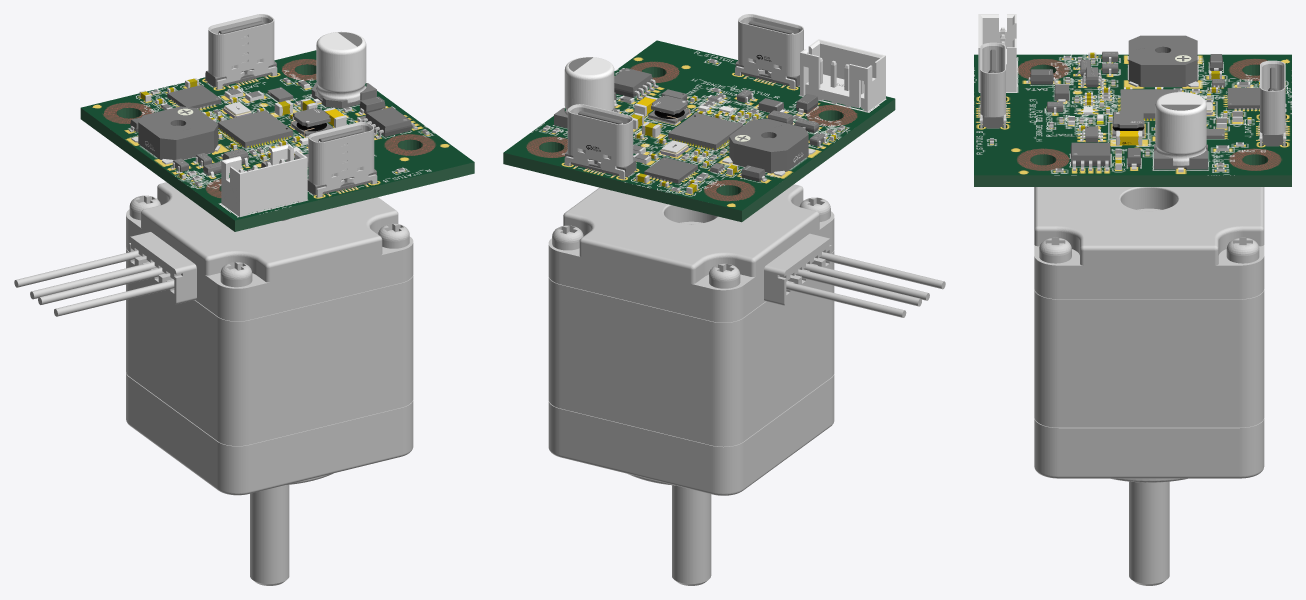
The model's file is development-assembly.glb.
3 views of the same model, side by side, from view 1: azimuth 30°, elevation 25°; view 2: azimuth 150°, elevation 25°; view 3: azimuth 270°, elevation 25° (orthographic). The views are drawn at different scales.
Visible parts, largest first — view 1: OEM_11HS12_0674S, Box0, J_MOTOR, J_DATA, J_PD, C_BULK, BZ1, U_MCU, U_PD, U_DRV, L_BUCK; view 2: OEM_11HS12_0674S, Box0, J_MOTOR, J_DATA, J_PD, BZ1, C_BULK, U_MCU, U_PD, L_BUCK, U_DRV; view 3: OEM_11HS12_0674S, Box0, C_BULK, BZ1, J_DATA, J_PD, J_MOTOR, U_PD, U_MCU, U_DRV, L_BUCK, D_DATA.
Boxes of the visible parts, x1,y1,x2,y2 form: OEM_11HS12_0674S: (14,182,413,585); Box0: (80,50,474,231); J_MOTOR: (221,144,307,216); J_DATA: (205,14,277,89); J_PD: (307,122,377,197); C_BULK: (311,31,376,108); BZ1: (131,106,220,164); U_MCU: (217,110,292,148); U_PD: (362,107,417,138); U_DRV: (167,85,221,108); L_BUCK: (290,107,332,137); OEM_11HS12_0674S: (548,184,945,585); Box0: (503,40,895,222); J_MOTOR: (800,39,885,111); J_DATA: (564,104,636,179); J_PD: (735,14,803,89); BZ1: (722,118,815,176); C_BULK: (554,57,617,128); U_MCU: (668,113,743,150); U_PD: (614,68,658,99); L_BUCK: (648,95,690,125); U_DRV: (644,157,697,183); OEM_11HS12_0674S: (1034,187,1264,585); Box0: (974,54,1291,186); C_BULK: (1154,92,1207,172); BZ1: (1127,35,1198,87); J_DATA: (1257,60,1287,146); J_PD: (978,42,1008,128); J_MOTOR: (978,14,1016,92); U_PD: (1070,142,1110,170); U_MCU: (1120,89,1177,119); U_DRV: (1227,88,1259,109); L_BUCK: (1112,111,1144,137); D_DATA: (1026,69,1057,84).
Size of the model in its own units: 51.6 by 70.55 by 39.
Materials: 30 (2 with a texture image).
